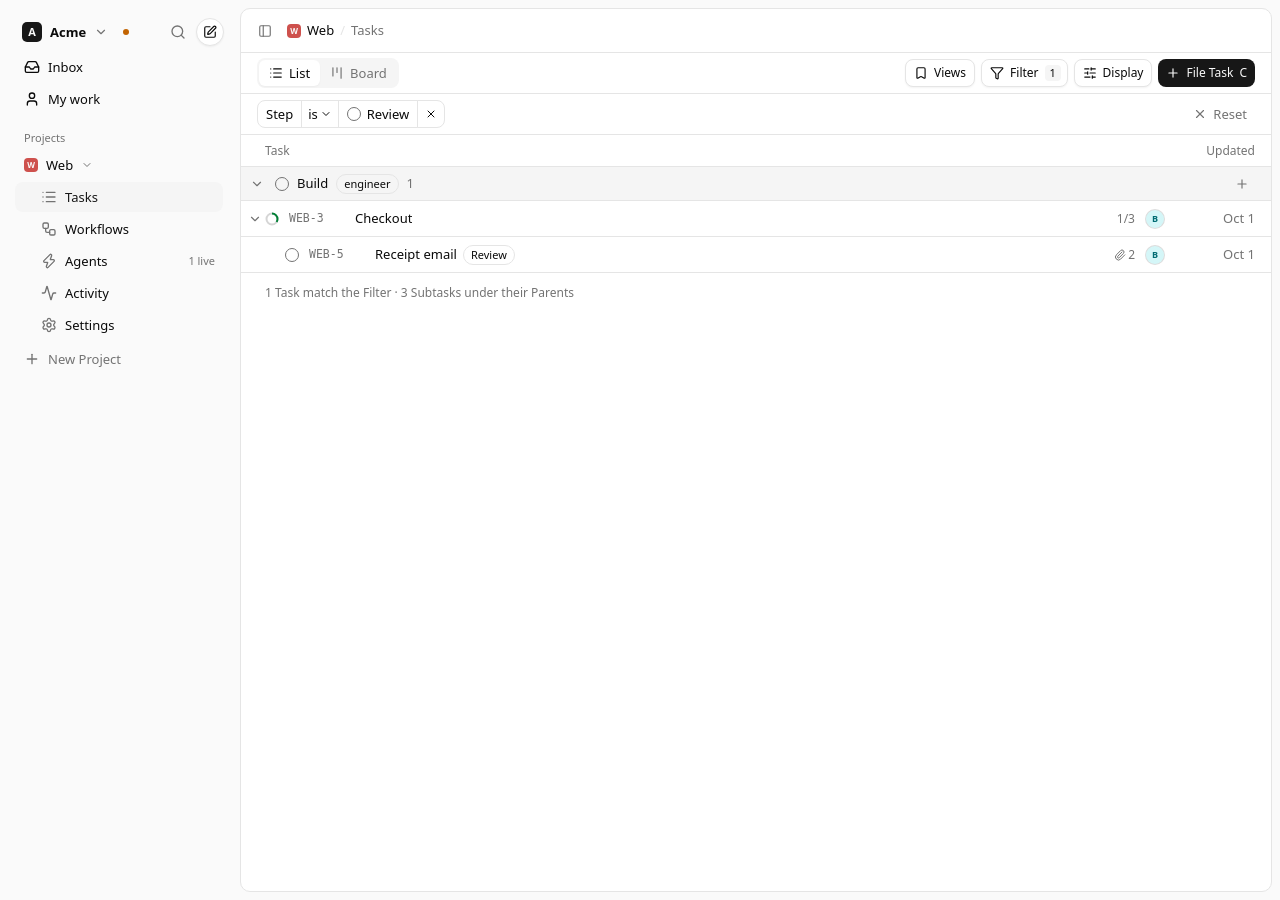
Tasks, Filter and Views › narrows the list by a Step pill, keeping a Parent whose Subtask passes, opened to that Subtask
Expected: the link "WEB-2 Build" is not shown
Expected: the text "1 Task match the Filter · 3 Subtasks under their Parents" is shown, x1=265 y1=284 x2=574 y2=301
The chip row says it, and Reset clears it.
Click the button "Reset" at (1220, 114), box x1=1185 y1=100 x2=1255 y2=128
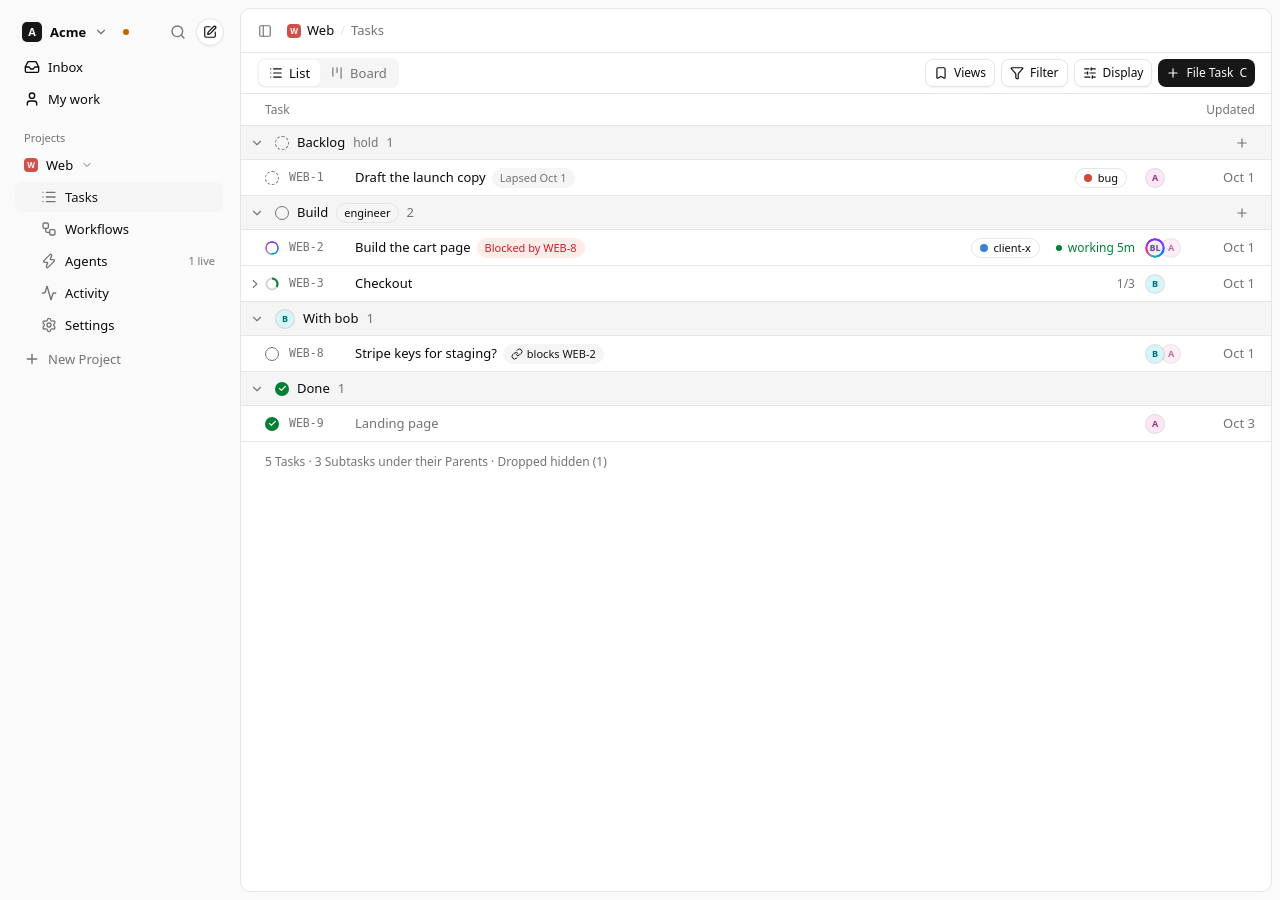
Expected: the link "WEB-2 Build" is shown, x1=241 y1=230 x2=1271 y2=266
